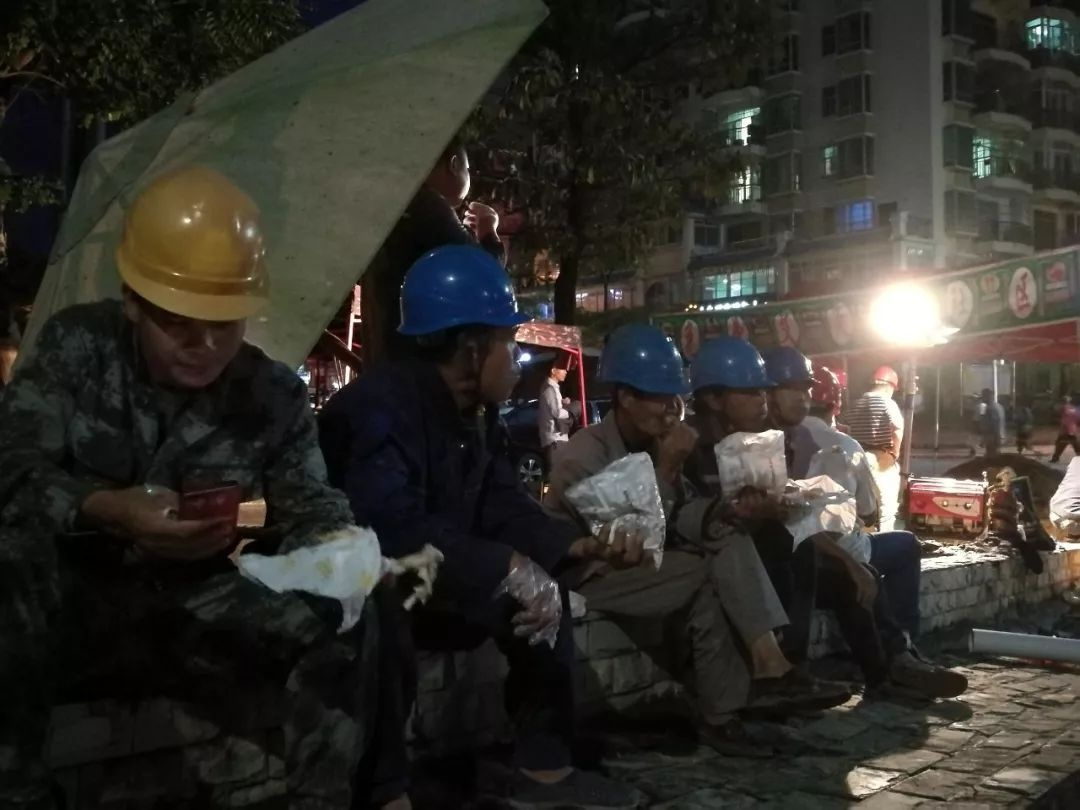blue: (397, 246, 523, 405), (602, 324, 685, 438), (695, 333, 771, 432), (761, 344, 812, 427)
red: (806, 361, 844, 423), (863, 361, 898, 397)
yellow: (130, 176, 269, 379)
